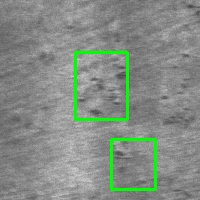rolled-in_scale: (75, 52, 127, 119), (111, 139, 155, 189)
